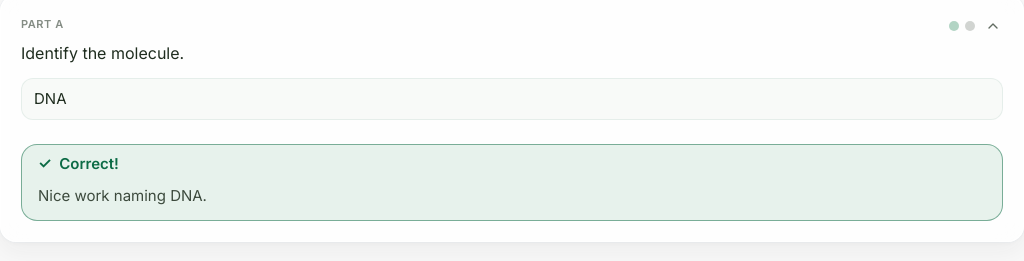
PartCard › keeps feedback open after the unlock countdown ends, and lets the student collapse it
Check: the text "Correct!" is shown, box [59, 154, 119, 173]
Click the button named "Collapse": (993, 26) [983, 16, 1003, 36]
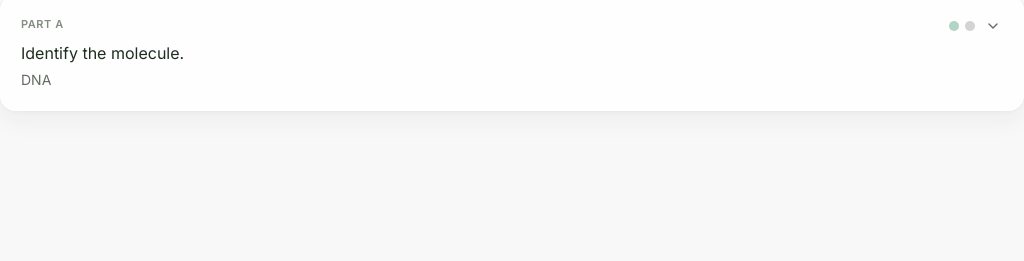
Check: the button named "Expand" is collapsed, box [983, 16, 1003, 36]
